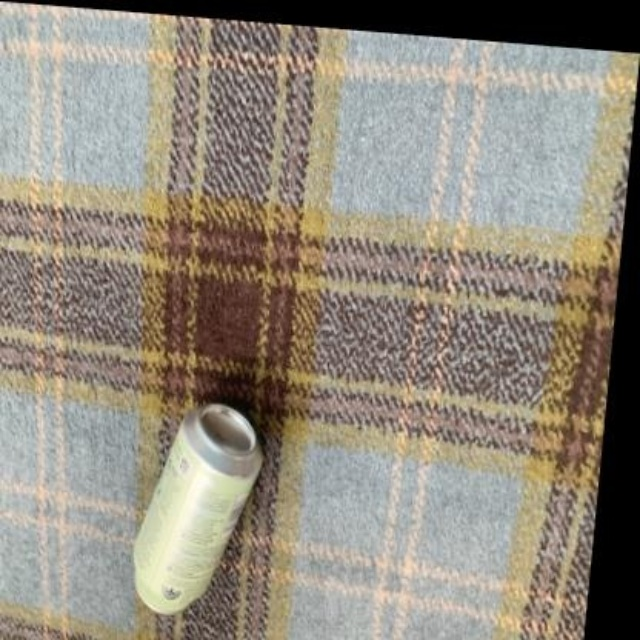trash: (134, 403, 262, 614)
